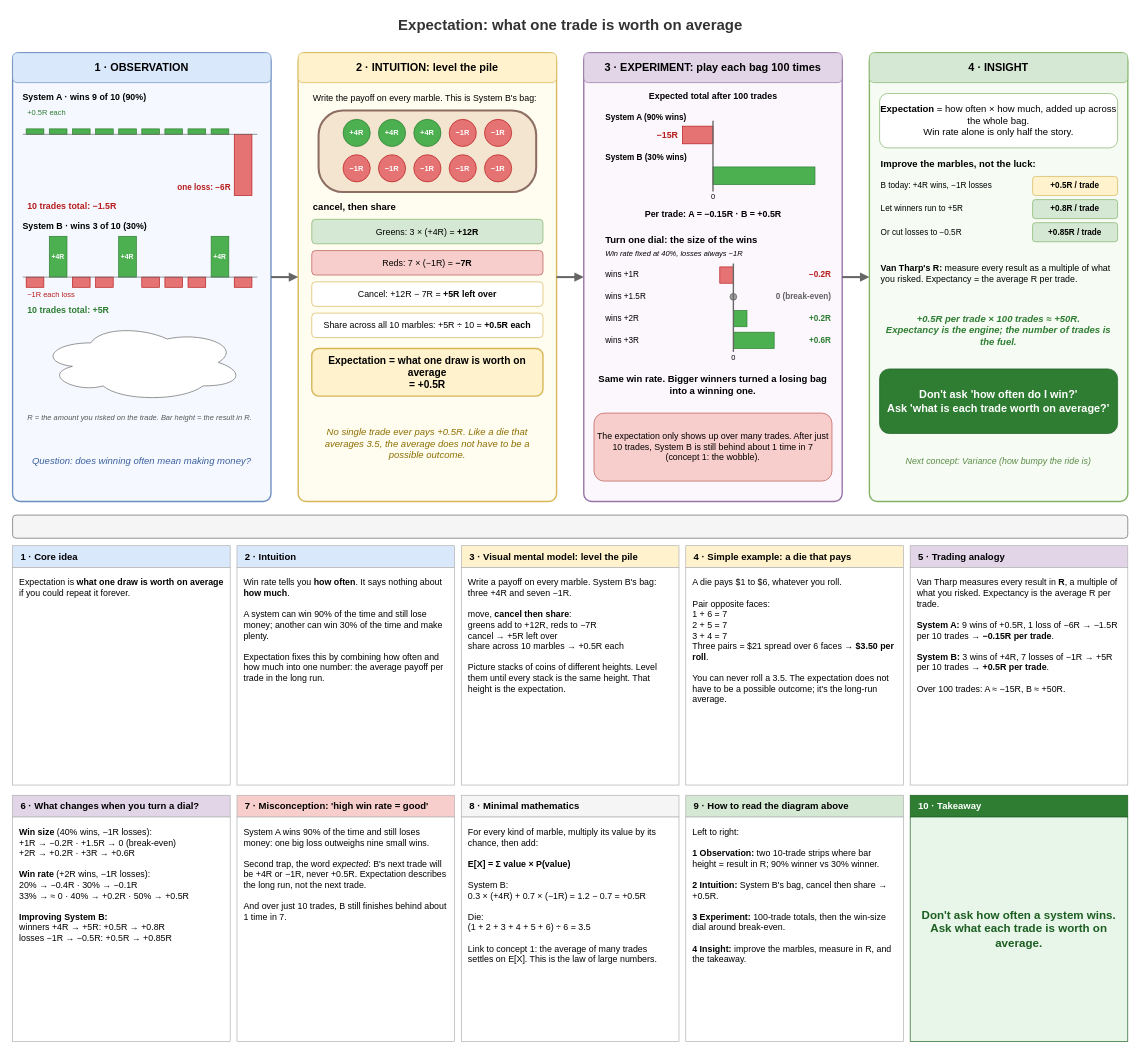
The diagram is 1140 pixels wide and 1053 high, and some of its shapes have lost their labels. Here are the shapes that lost their labels. From the top down, the centre of each, then its label:
(x=763, y=175): +50R
(x=141, y=362): A wins 90% of the time. Surely A is the better system?
(x=570, y=526): LESSON NOTES: the full explanation, for future reference
